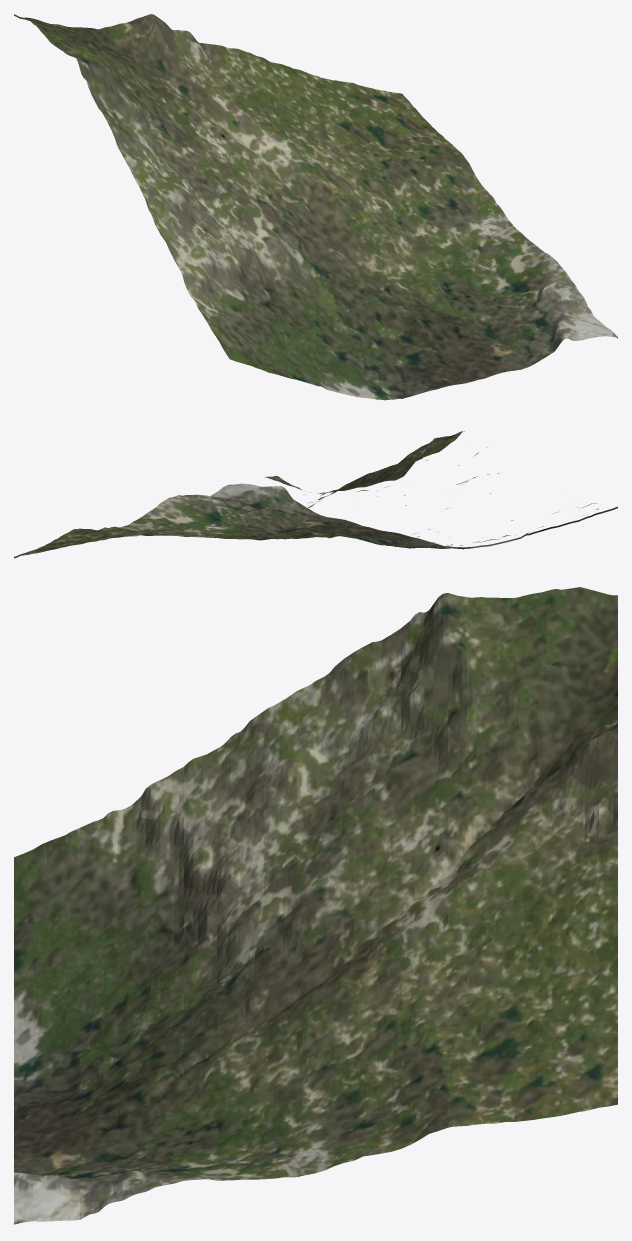
3 renders of one model, top to bottom at view 1: azimuth 30°, elevation 25°; view 2: azimuth 150°, elevation 25°; view 3: azimuth 270°, elevation 25°, orthographic. The views are drawn at different scales.
Bounding box in the file's own units: 250 × 170 × 241.
1 material, 1 textured.
